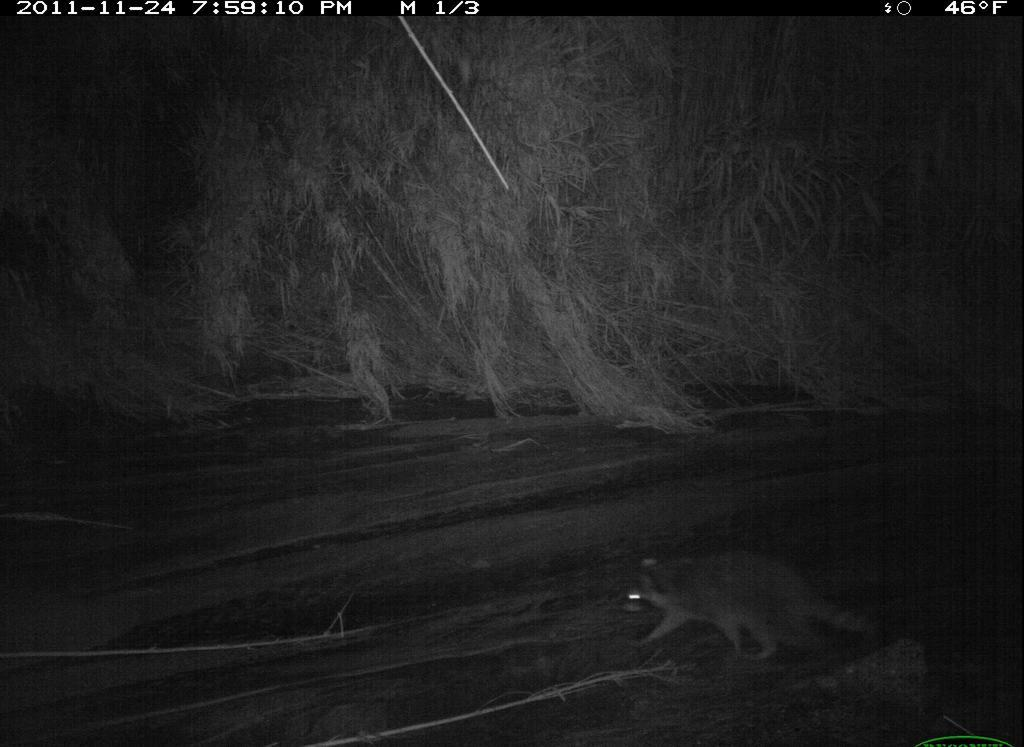raccoon: (623, 545, 888, 667)
